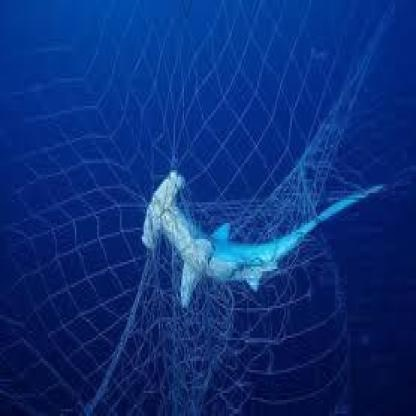net: (1, 4, 360, 416)
